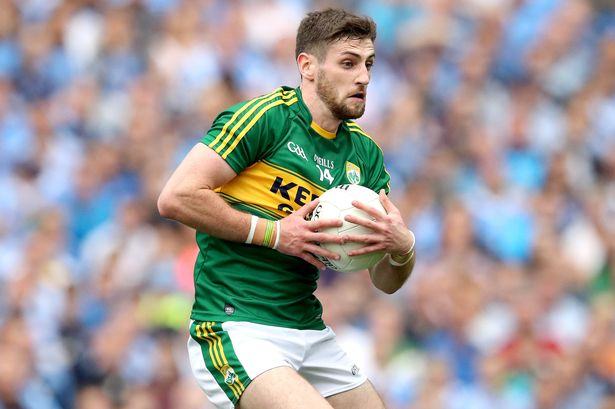ball: (307, 184, 395, 268)
player: (165, 13, 414, 403)
